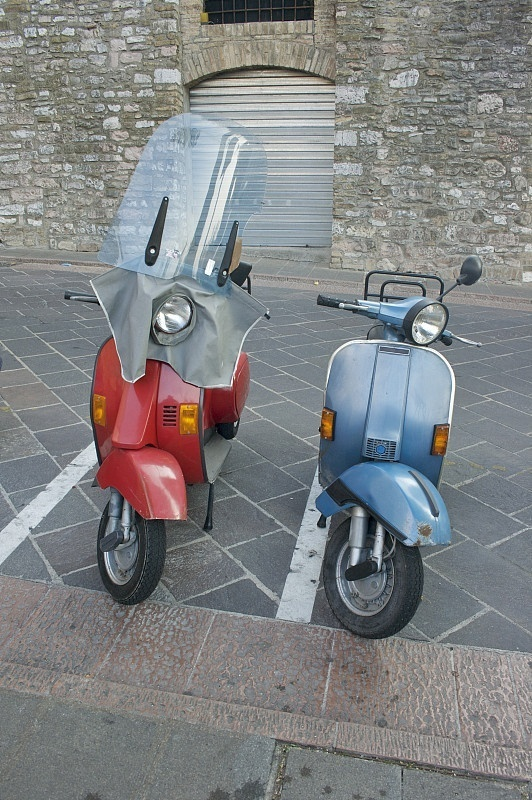non-vehicle: (77, 204, 264, 604), (298, 264, 492, 643)
